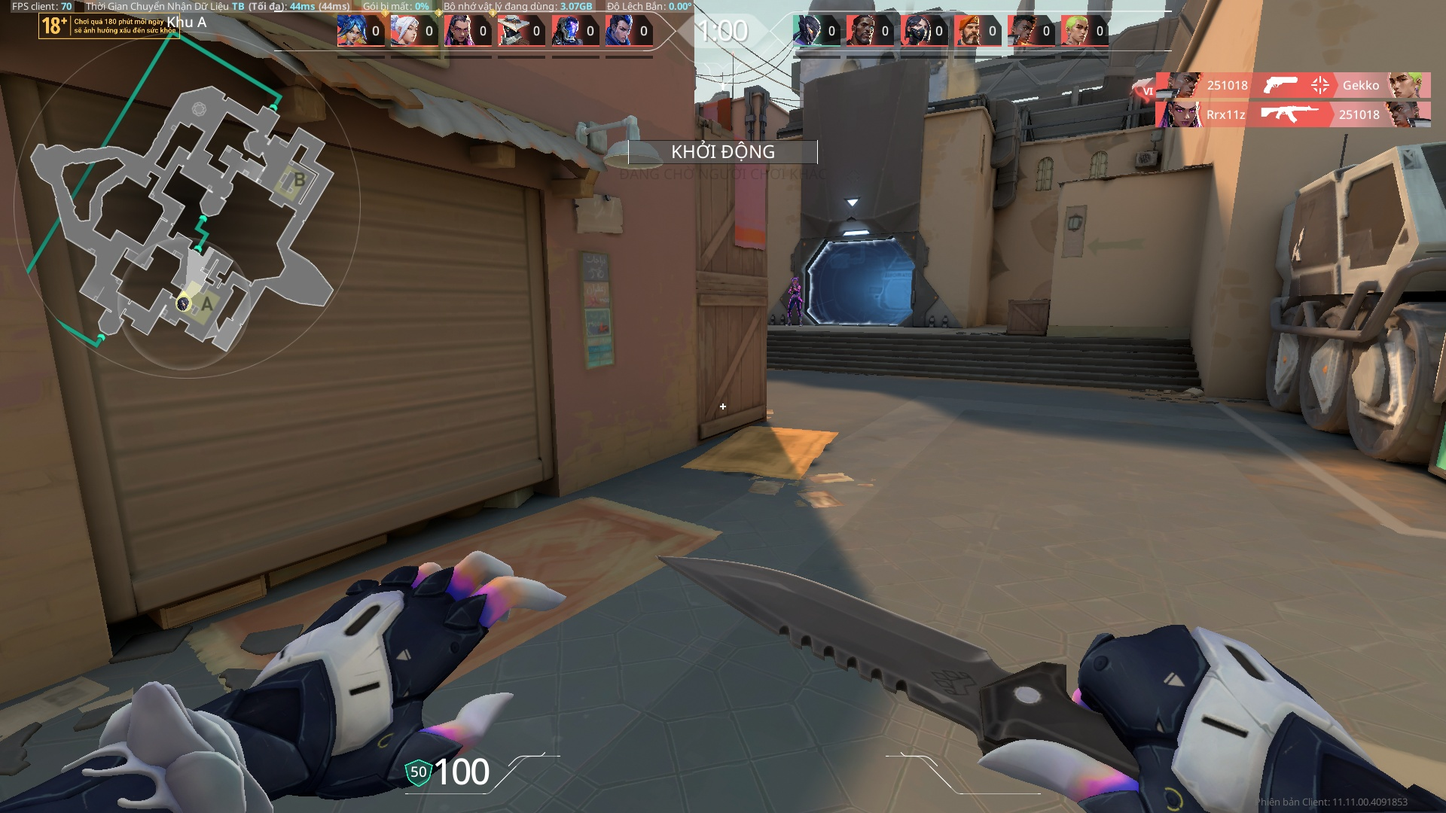body: (789, 281, 799, 294)
head: (790, 276, 801, 286)
